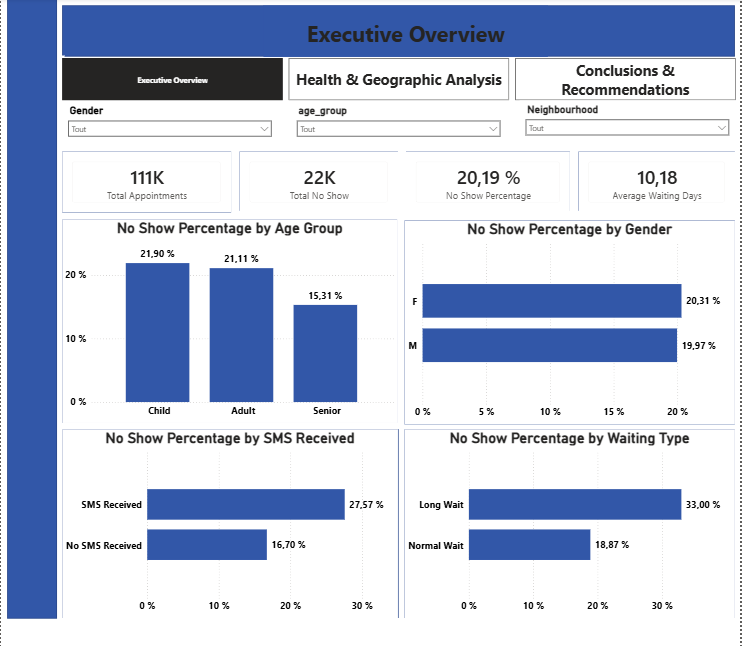

The dashboard page shown, as its layout file describes it:
{"tool":"powerbi","page":{"name":"Executive Overview","canvas":[1280,1250],"ordinal":0},"visuals":[{"type":"shape","box":[106,14,1162,88],"z":0},{"type":"shape","box":[10,0,86,1072],"z":1000},{"type":"shape","box":[105,265,291.7,105],"z":2000},{"type":"shape","box":[411.7,265,273.3,101.7],"z":3000},{"type":"shape","box":[700,265,283.3,101.7],"z":4000},{"type":"shape","box":[998.3,265,270,101.7],"z":5000},{"type":"textbox","box":[100,100,10,4],"z":6000},{"type":"textbox","box":[454.2,13.7,491.3,89.2],"z":7000},{"type":"shape","box":[105.8,382.3,578.8,352],"z":8000},{"type":"shape","box":[697.6,384.4,570.1,352],"z":9000},{"type":"shape","box":[105.8,745.1,580.9,326.1],"z":10000},{"type":"shape","box":[697.6,745.1,570.1,326.1],"z":11000},{"type":"pageNavigator","box":[105,103.3,1163.3,73.3],"z":12000},{"type":"cardVisual","fields":{"Data":["Measures table.No Show Percentage"]},"box":[700,265,283.3,105],"z":13000},{"type":"cardVisual","fields":{"Data":["Measures table.Average Waiting Days"]},"box":[998.3,265,270,105],"z":14000},{"type":"cardVisual","fields":{"Data":["Measures table.Total No Show"]},"box":[411.7,265,273.3,105],"z":15000},{"type":"cardVisual","fields":{"Data":["Measures table.Total Appointments"]},"box":[105,265,291.7,105],"z":16000},{"type":"clusteredColumnChart","title":"No Show Percentage by Age Group","fields":{"Category":["vw_fact_appointments.age_group"],"Y":["Measures table.No Show Percentage"]},"box":[105.8,382.3,578.8,352],"z":17000},{"type":"clusteredBarChart","title":"No Show Percentage by Gender","fields":{"Y":["Measures table.No Show Percentage"],"Category":["vw_fact_appointments.Gender"]},"box":[697.6,384.4,570.1,352],"z":18000},{"type":"clusteredBarChart","title":"No Show Percentage by SMS Received","fields":{"Y":["Measures table.No Show Percentage"],"Category":["vw_fact_appointments.SMS Status"]},"box":[105,745,580,326.7],"z":19000},{"type":"clusteredBarChart","title":"No Show Percentage by Waiting Type","fields":{"Y":["Measures table.No Show Percentage"],"Category":["vw_fact_appointments.is_waiting_long"]},"box":[698.3,745,570,326.7],"z":20000},{"type":"slicer","fields":{"Values":["vw_fact_appointments.Gender"]},"box":[105,180,371.7,73.3],"z":21000},{"type":"slicer","fields":{"Values":["vw_fact_appointments.age_group"]},"box":[501.7,180,371.7,73.3],"z":22000},{"type":"slicer","fields":{"Values":["vw_fact_appointments.Neighbourhood"]},"box":[896.7,176.7,371.7,73.3],"z":23000}]}

Visuals, with their boxes on the page's 1280x1250 design canvas (x1, y1, x2, y2). These are canvas units, not pixel positions in the 742x647 screenshot, which may show the page scaled, cropped or inside an application window:
shape: BBox(106, 14, 1268, 102)
shape: BBox(10, 0, 96, 1072)
shape: BBox(105, 265, 397, 370)
shape: BBox(412, 265, 685, 367)
shape: BBox(700, 265, 983, 367)
shape: BBox(998, 265, 1268, 367)
textbox: BBox(100, 100, 110, 104)
textbox: BBox(454, 14, 946, 103)
shape: BBox(106, 382, 685, 734)
shape: BBox(698, 384, 1268, 736)
shape: BBox(106, 745, 687, 1071)
shape: BBox(698, 745, 1268, 1071)
pageNavigator: BBox(105, 103, 1268, 177)
cardVisual - Measures table.No Show Percentage: BBox(700, 265, 983, 370)
cardVisual - Measures table.Average Waiting Days: BBox(998, 265, 1268, 370)
cardVisual - Measures table.Total No Show: BBox(412, 265, 685, 370)
cardVisual - Measures table.Total Appointments: BBox(105, 265, 397, 370)
"No Show Percentage by Age Group" clusteredColumnChart: BBox(106, 382, 685, 734)
"No Show Percentage by Gender" clusteredBarChart: BBox(698, 384, 1268, 736)
"No Show Percentage by SMS Received" clusteredBarChart: BBox(105, 745, 685, 1072)
"No Show Percentage by Waiting Type" clusteredBarChart: BBox(698, 745, 1268, 1072)
slicer - vw_fact_appointments.Gender: BBox(105, 180, 477, 253)
slicer - vw_fact_appointments.age_group: BBox(502, 180, 873, 253)
slicer - vw_fact_appointments.Neighbourhood: BBox(897, 177, 1268, 250)
